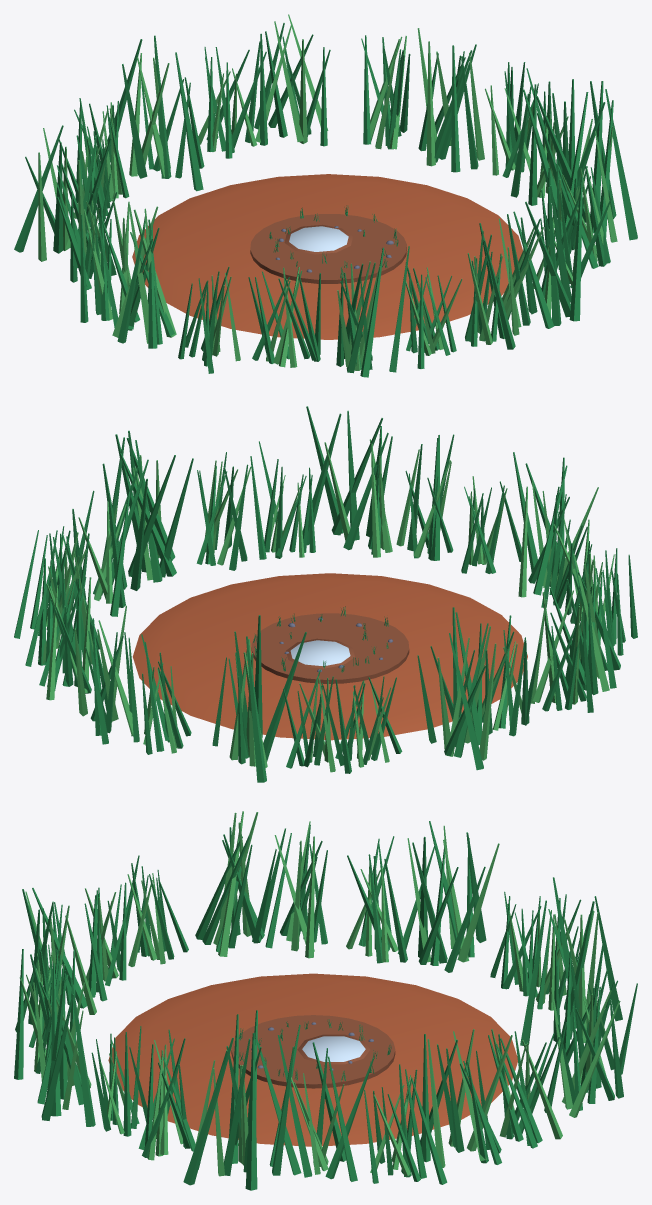
File: bog_leech.glb
3 renders of one model, top to bottom at view 1: azimuth 30°, elevation 25°; view 2: azimuth 150°, elevation 25°; view 3: azimuth 270°, elevation 25°, orthographic. The views are drawn at different scales.
Parts seen in each view (by area): view 1: BogLeechGround; view 2: BogLeechGround; view 3: BogLeechGround.
Boxes of the visible parts, <box> form: BogLeechGround: <box>14,14,637,377</box>; BogLeechGround: <box>14,406,637,782</box>; BogLeechGround: <box>14,811,637,1190</box>.
Size of the model in its own units: 45.2 by 11.84 by 45.65.
Materials: 1 (1 with a texture image).
